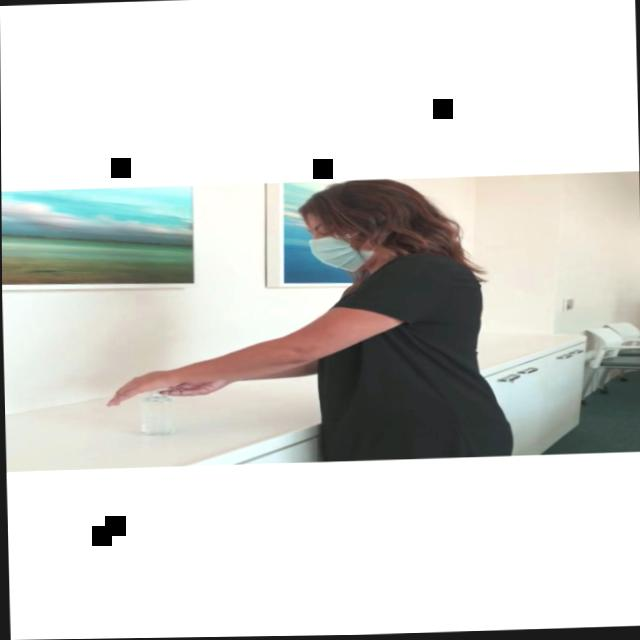Mask: (294, 190, 388, 281)
